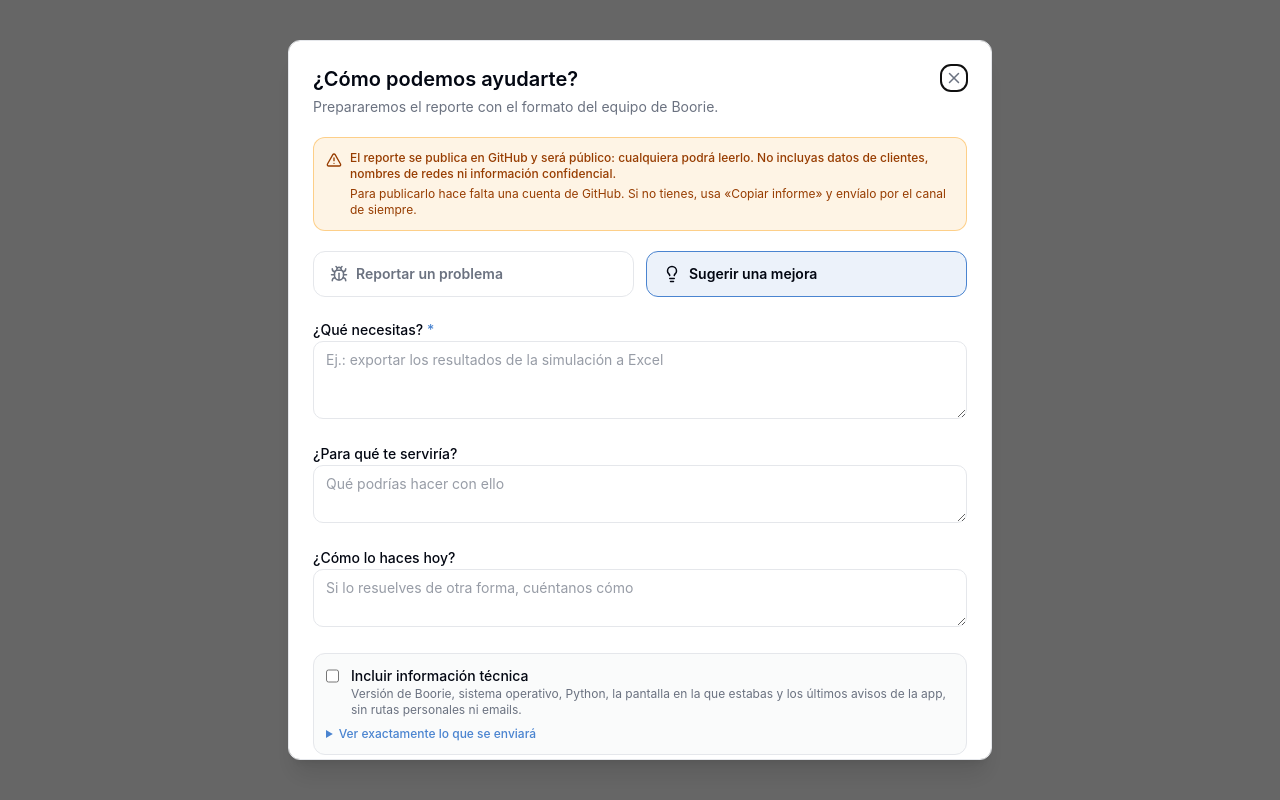
DialogoAyuda › el modo mejora muestra sus tres campos (R8, R9)
The image size is (1280, 800).
Check: the text "¿Qué necesitas?" is shown, box [313,321,423,338]
Check: the text "¿Para qué te serviría?" is shown, box [313,445,457,462]
Click the button "Reportar un problema" at (474,274), box [313,251,634,297]
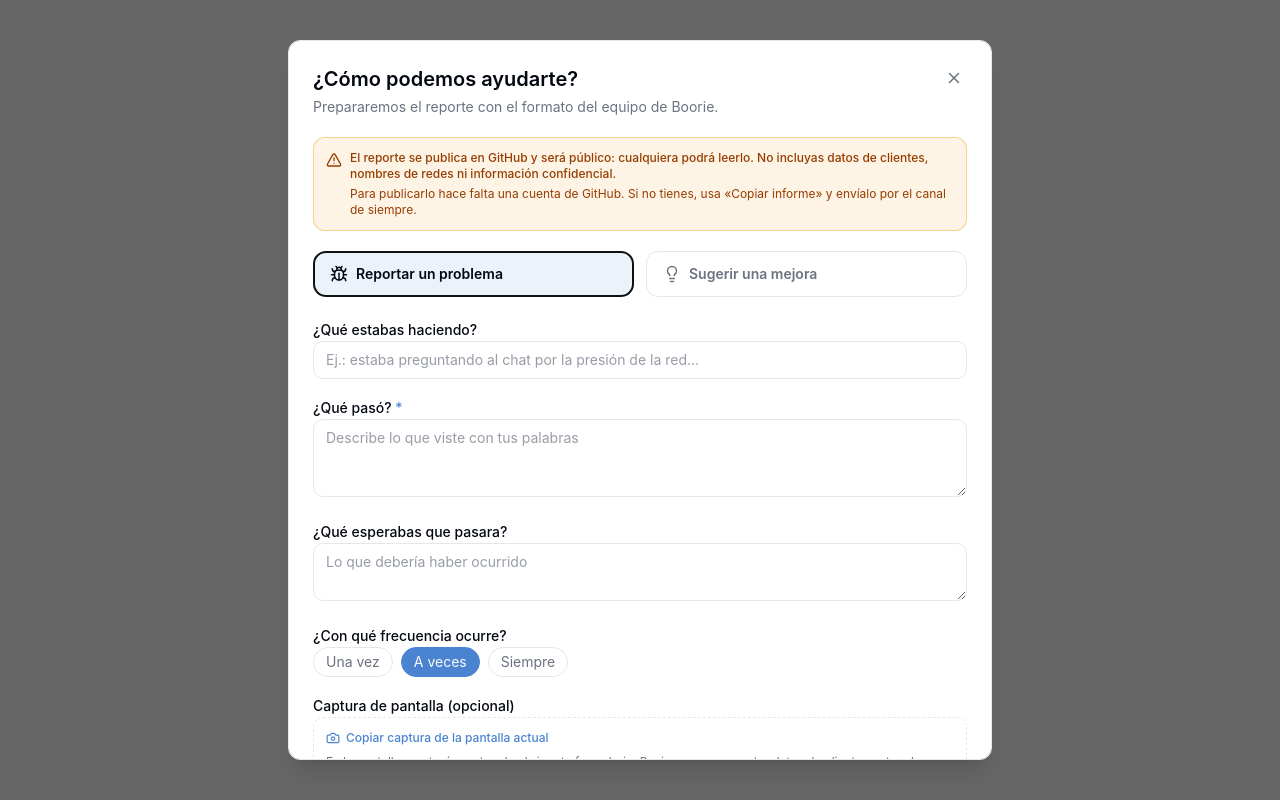
Check: the text "¿Qué pasó?" is shown, box [313,399,392,416]
